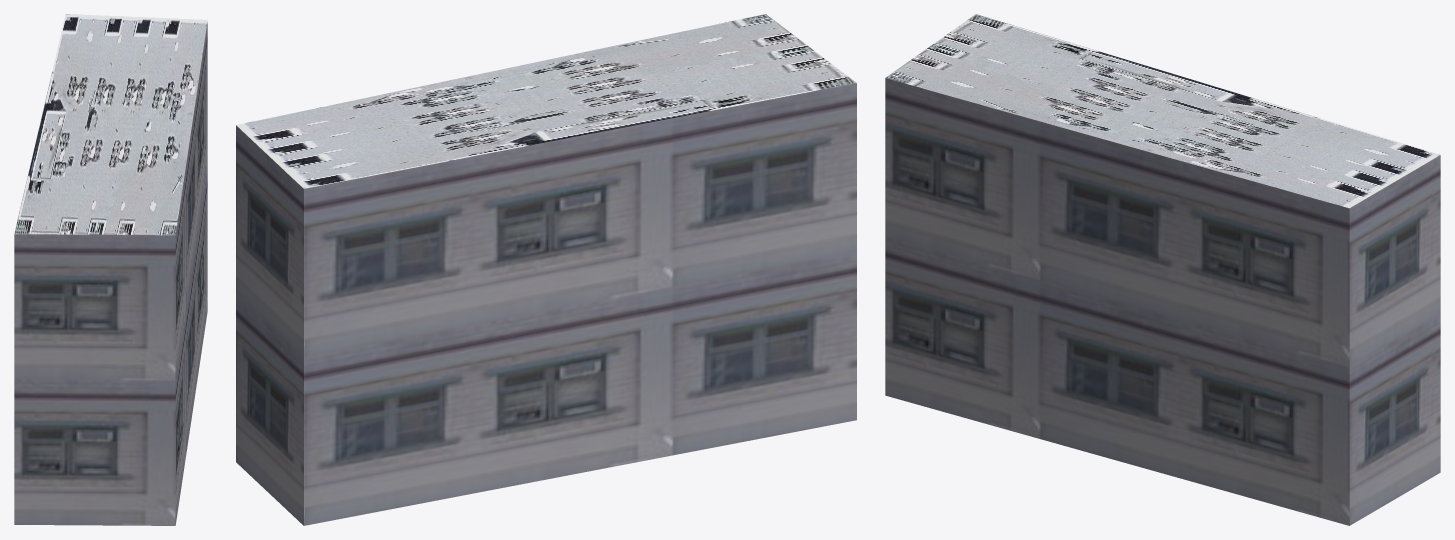
File: ResTex__4254.fbx
The picture shows the model from 3 angles, left to right: view 1: azimuth 30°, elevation 25°; view 2: azimuth 150°, elevation 25°; view 3: azimuth 270°, elevation 25°; orthographic projection. The views are drawn at different scales.
Parts seen in each view (by area): view 1: CityEngineMaterial_1_m, CityEngineMaterial_m; view 2: CityEngineMaterial_1_m, CityEngineMaterial_m; view 3: CityEngineMaterial_1_m, CityEngineMaterial_m.
Part boxes in pixels (x1,y1,x2,y2): CityEngineMaterial_1_m: (14, 22, 207, 525); CityEngineMaterial_m: (14, 14, 207, 235); CityEngineMaterial_1_m: (236, 83, 856, 525); CityEngineMaterial_m: (236, 14, 856, 188); CityEngineMaterial_1_m: (885, 78, 1440, 525); CityEngineMaterial_m: (885, 14, 1439, 208).
Size of the model in its own units: 7.87 by 6 by 9.51.
Materials: 2 (2 with a texture image).
